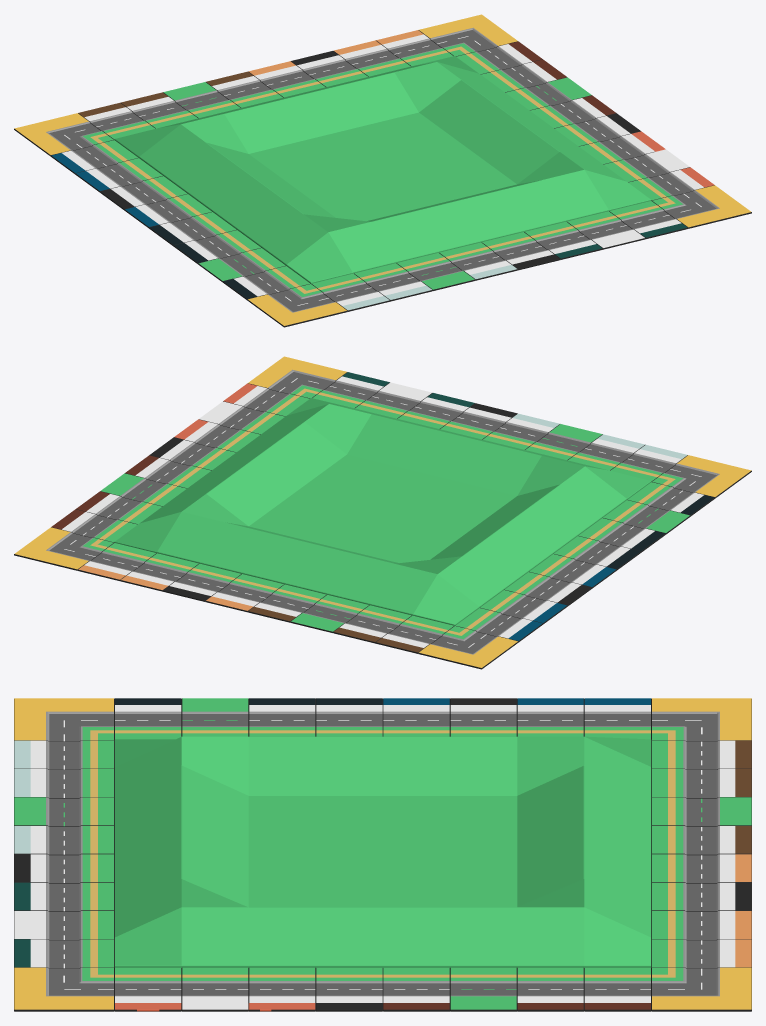
The model's file is plateau.glb.
3 renders of one model, top to bottom at view 1: azimuth 30°, elevation 25°; view 2: azimuth 150°, elevation 25°; view 3: azimuth 270°, elevation 25°, orthographic. The views are drawn at different scales.
Visible parts, largest first — view 1: Cube.008; view 2: Cube.008; view 3: Cube.008.
Part boxes in pixels (x1,y1,x2,y2): Cube.008: (14, 14, 751, 327); Cube.008: (14, 356, 751, 669); Cube.008: (14, 698, 751, 1011).
Bounding box in the file's own units: 5.5 × 0.2896 × 5.5.
Materials: 3 (3 with a texture image).
